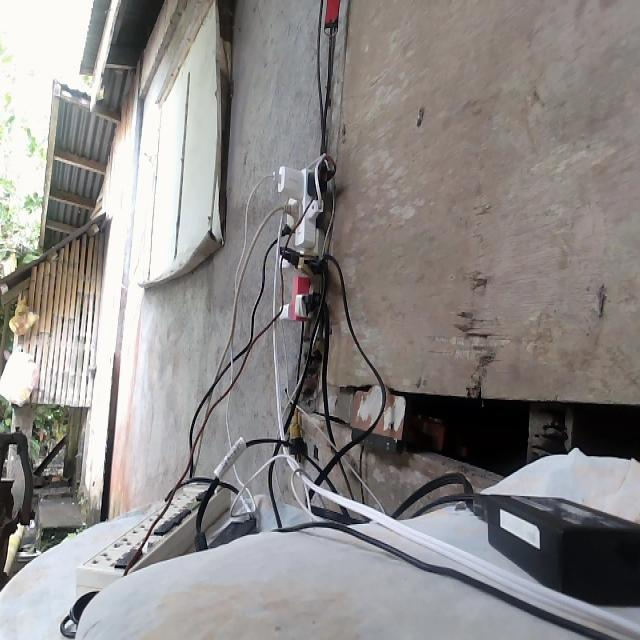-: (263, 154, 338, 322)
